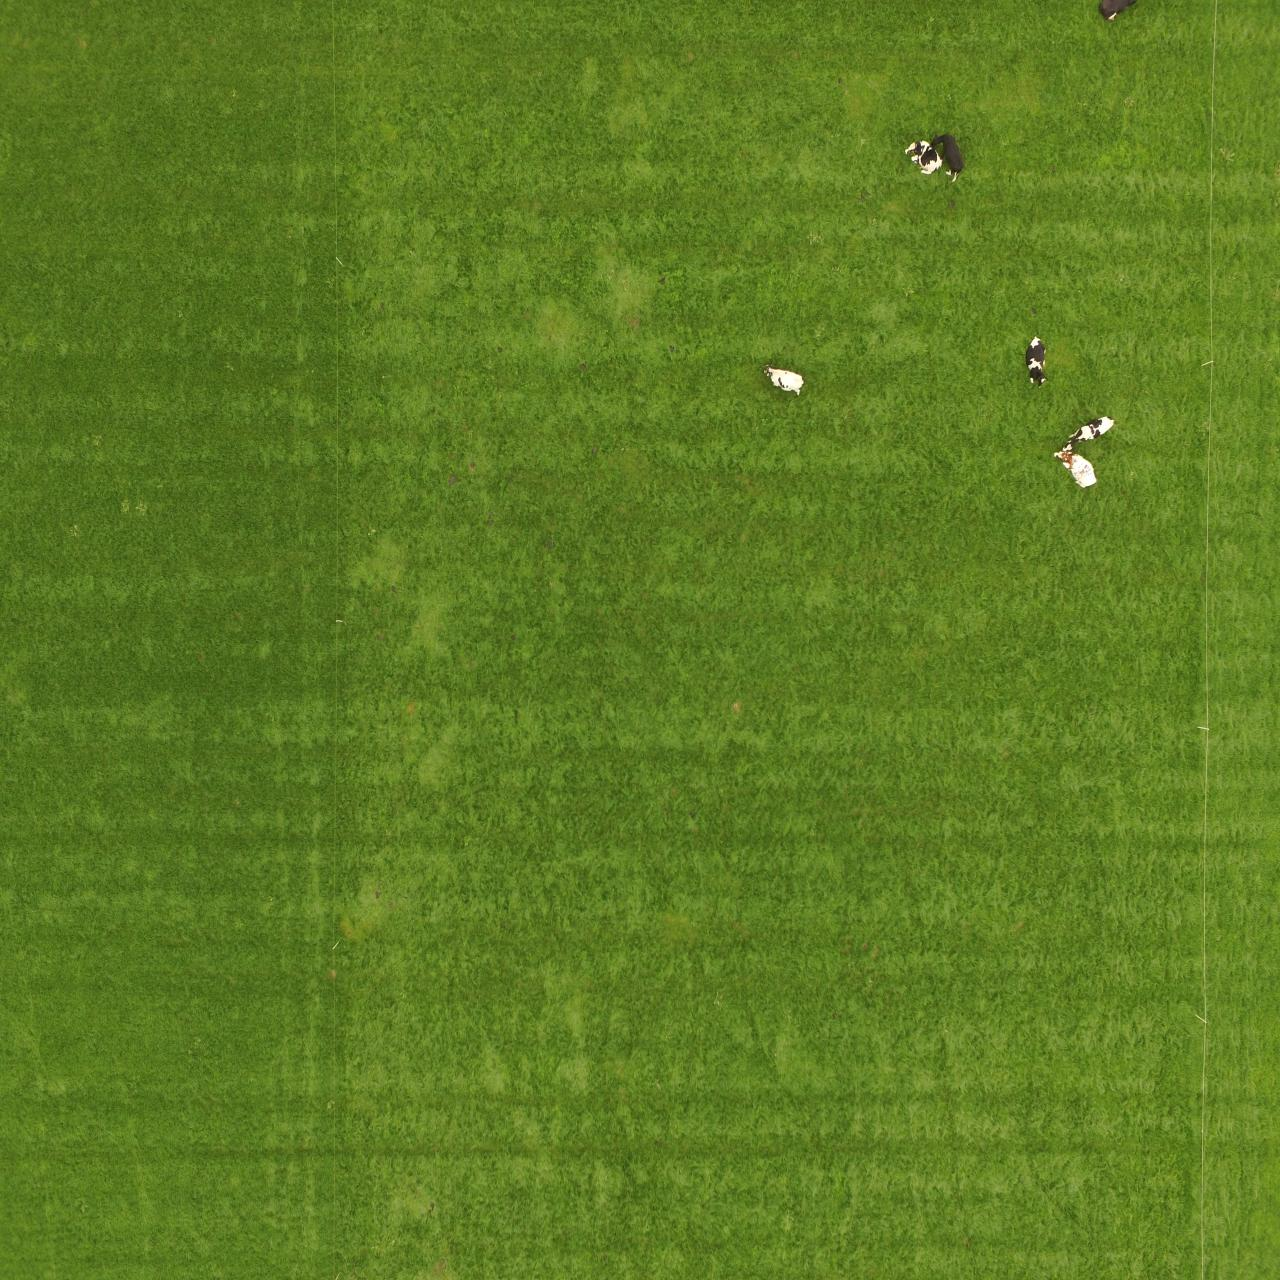cow: (1048, 445, 1102, 489), (1020, 332, 1051, 387), (1063, 413, 1116, 444), (904, 139, 947, 177), (934, 129, 967, 177), (763, 360, 808, 395)
